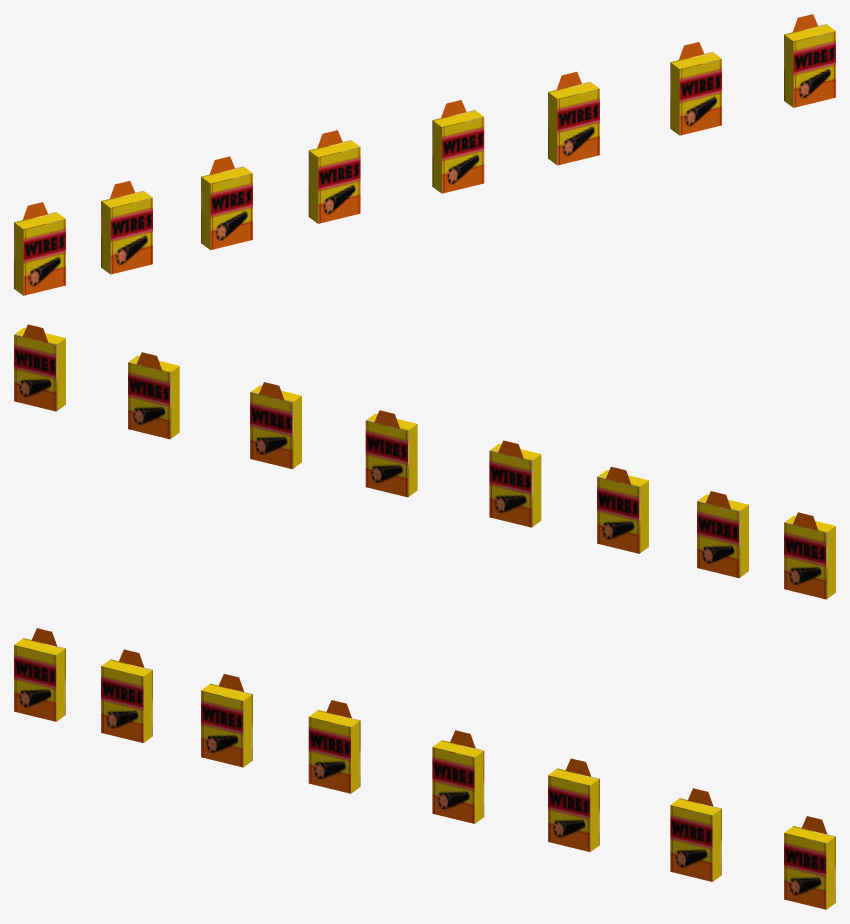
File: Bundle_Wire_Box.fbx
The picture shows the model from 3 angles, top to bottom: view 1: azimuth 30°, elevation 25°; view 2: azimuth 150°, elevation 25°; view 3: azimuth 330°, elevation 25°; orthographic projection.
Parts seen in each view (by area): view 1: Bundle_Wire_Box_1; view 2: Bundle_Wire_Box_1; view 3: Bundle_Wire_Box_1.
Part boxes in pixels (x1,y1,x2,y2): Bundle_Wire_Box_1: [14, 14, 835, 295]; Bundle_Wire_Box_1: [14, 324, 835, 599]; Bundle_Wire_Box_1: [14, 628, 835, 909].
Bounding box in the file's own units: 427 × 40.17 × 8.68.
